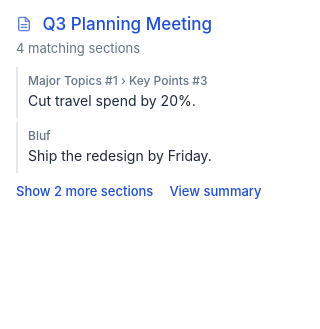
Test case: SummaryResultCard › shows the first two matching sections and discloses the rest on demand
The width and height of the screenshot is (320, 329).
Check: the text "Book the venue." is not shown
Click the button "Show 2 more sections" at (85, 191), box [16,181,153,201]
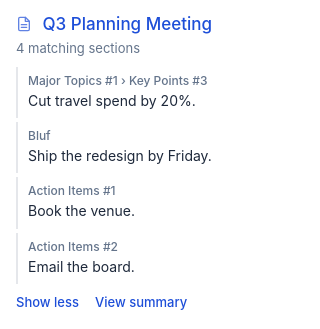
Check: the text "Book the venue." is shown, box [28,200,135,223]
Check: the text "Email the board." is shown, box [28,256,135,278]
Check: the button "Show less" is expanded, box [16,292,79,312]
